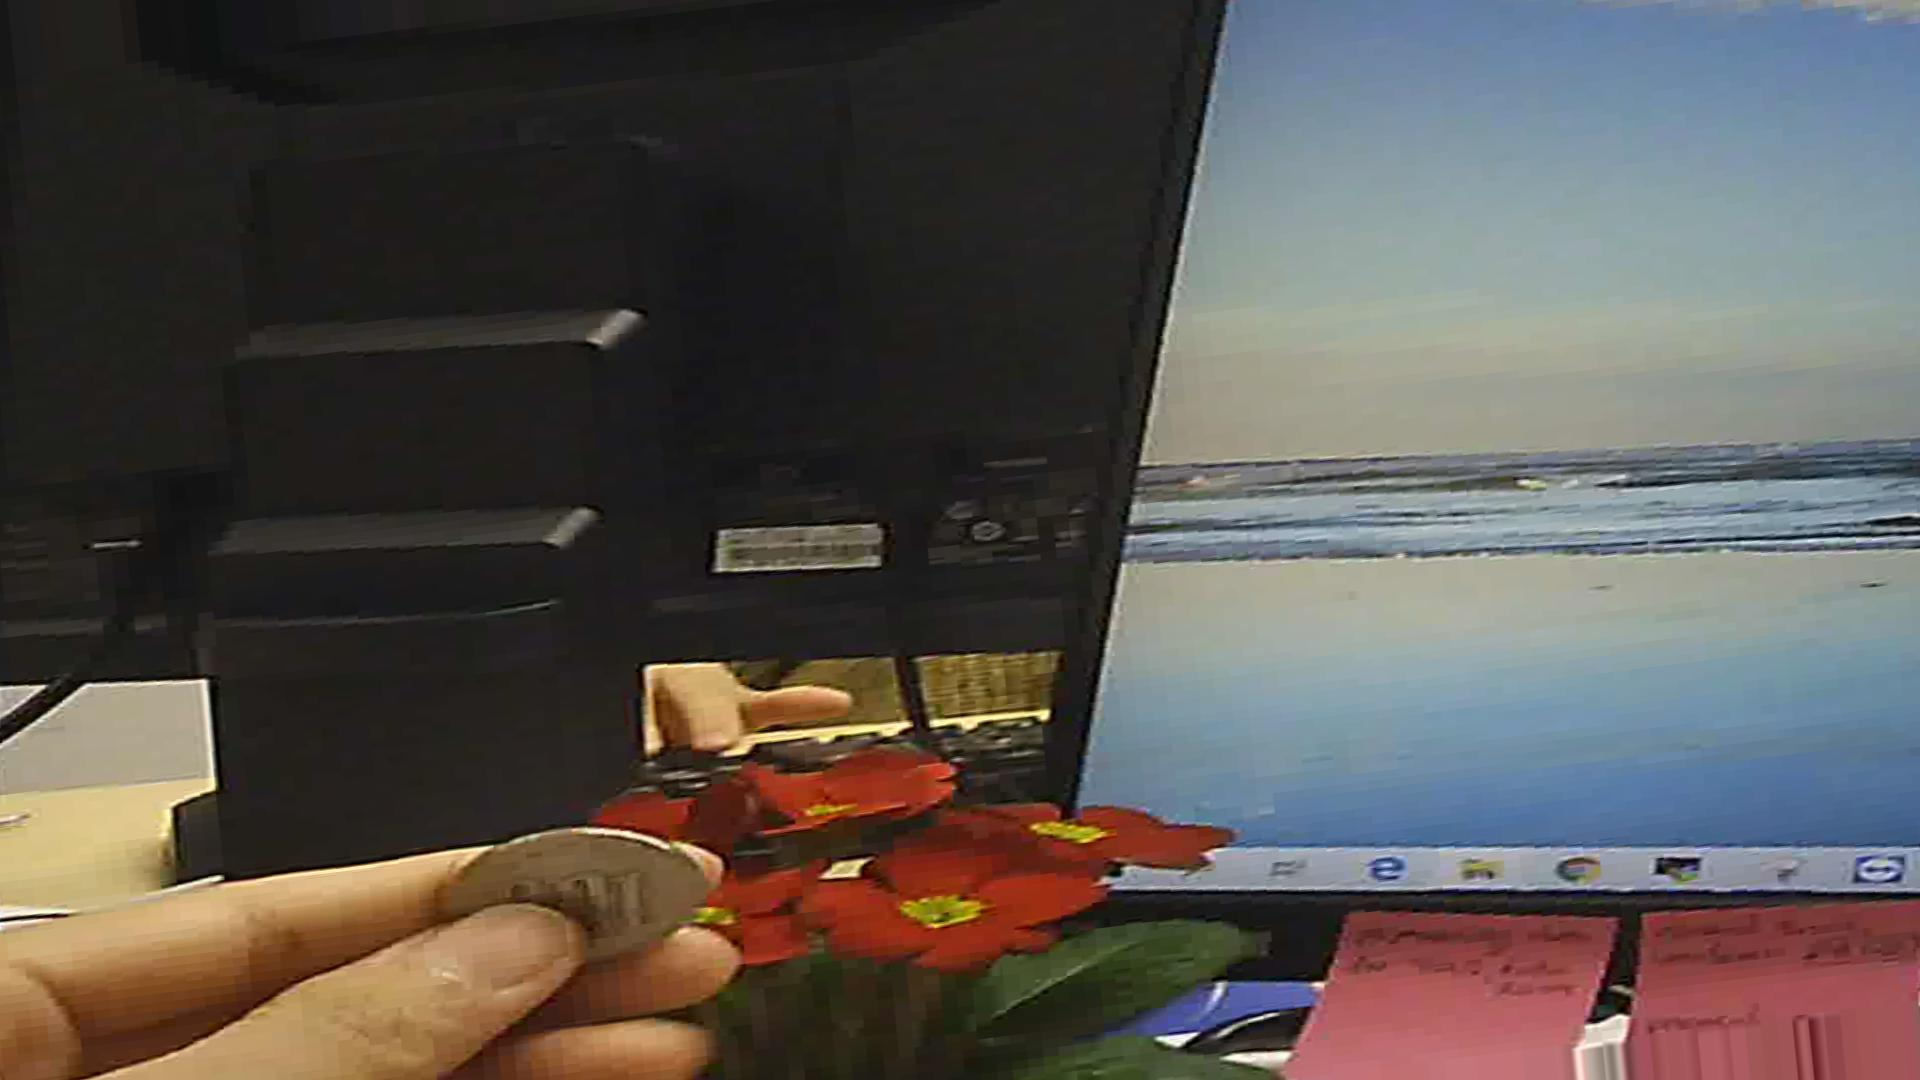100 Yen: (452, 818, 721, 960)
